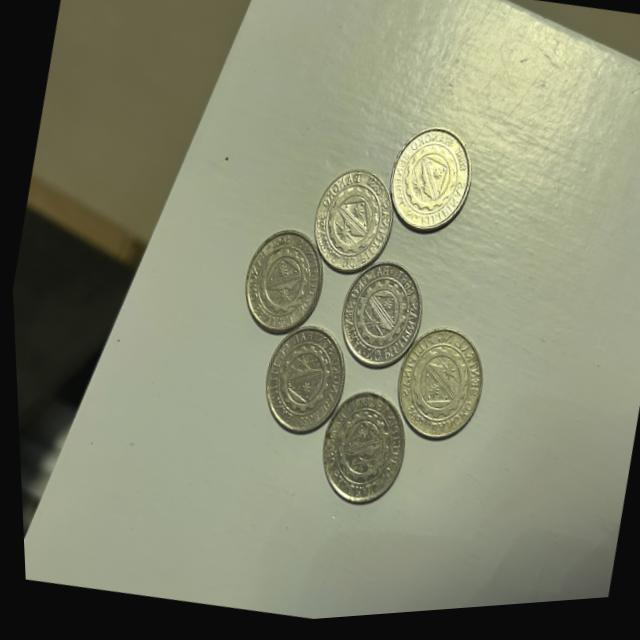1_Old_Back: (396, 336, 478, 442), (318, 400, 400, 501), (263, 334, 341, 427), (340, 270, 418, 360), (390, 142, 464, 232), (244, 240, 315, 329), (316, 181, 383, 268)
